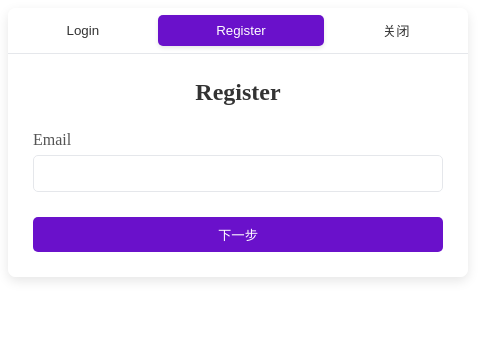
Test: DataForm.vue › should navigate through steps correctly
Type "test@example.com" into the field with id "email" at (238, 174), box [33,155,443,192]
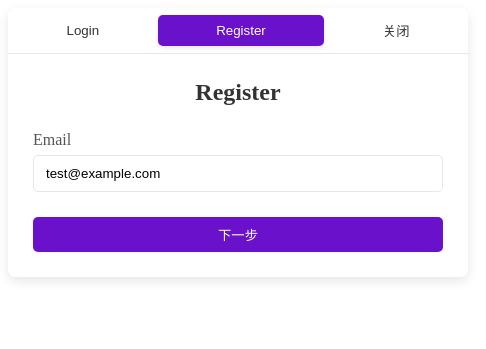
Click the button with class "su-form-panel__button--primary" at (238, 234), box [33,217,443,252]
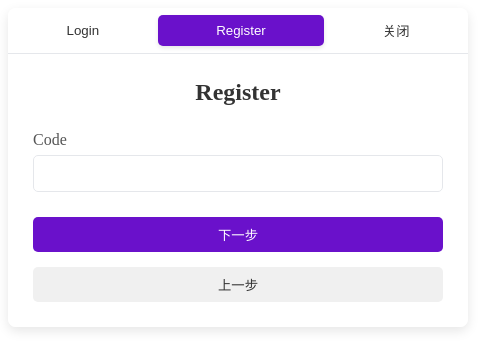
Expected: the field with id "code" is shown, [33,155,443,192]
Click the button with class "su-form-panel__button--secondary" at (238, 284), box [33,267,443,302]
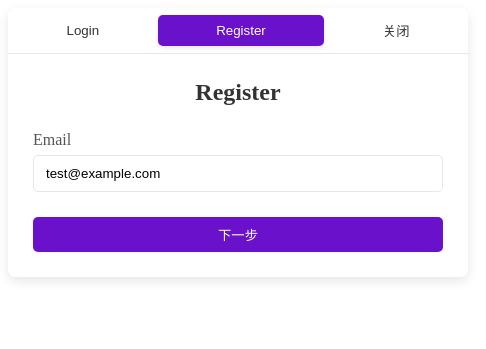
Expected: the field with id "email" is shown, [33,155,443,192]
